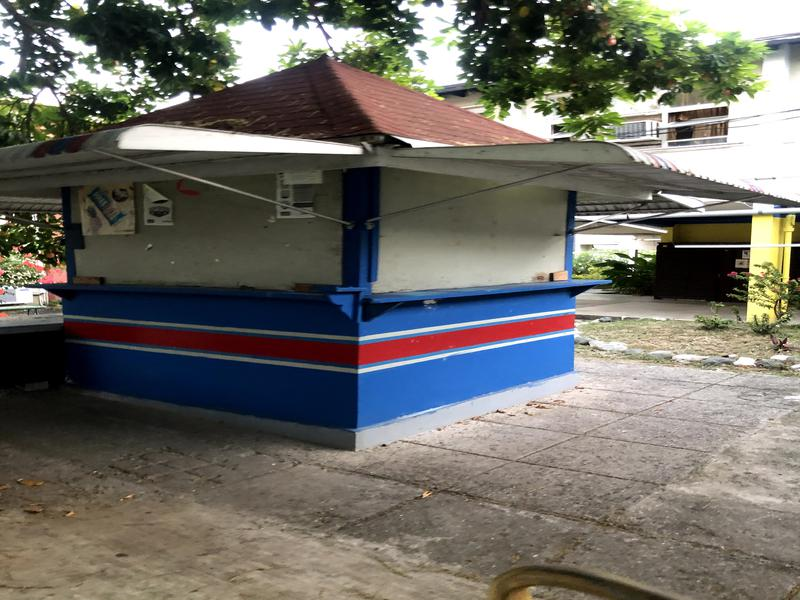18.0050609_-76.7496662_auntyjackie: (1, 49, 793, 451)
